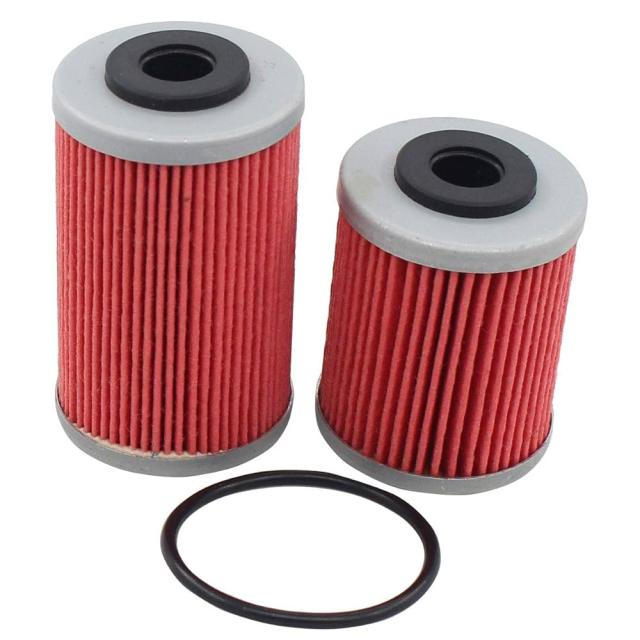oil_filter: (47, 22, 308, 475), (310, 112, 592, 498)
